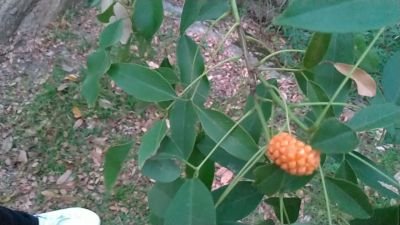eggs: (265, 129, 322, 178)
